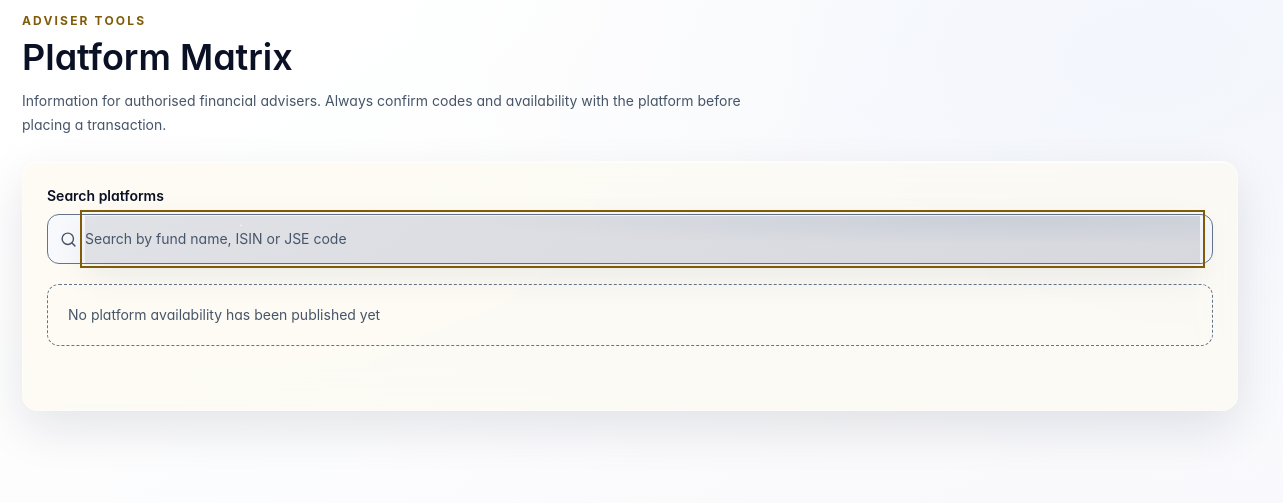
Scenario: AdviserPlatformsPage › shows the exact empty state, disclaimer, recognized query, and search placeholder
The width and height of the screenshot is (1283, 503).
Expected: the text "No platform availability has been published yet" is shown, [47,284,1213,346]
Expected: the text "Information for authorised financial advisers. Always confirm codes and availability with the platform before placing a " is shown, [22,92,741,133]
Type "ZA1234567890" into the field named "Search by fund name, ISIN or JSE code".
click(642, 239); type("ZA1234567890")  # box [85,215,1200,263]
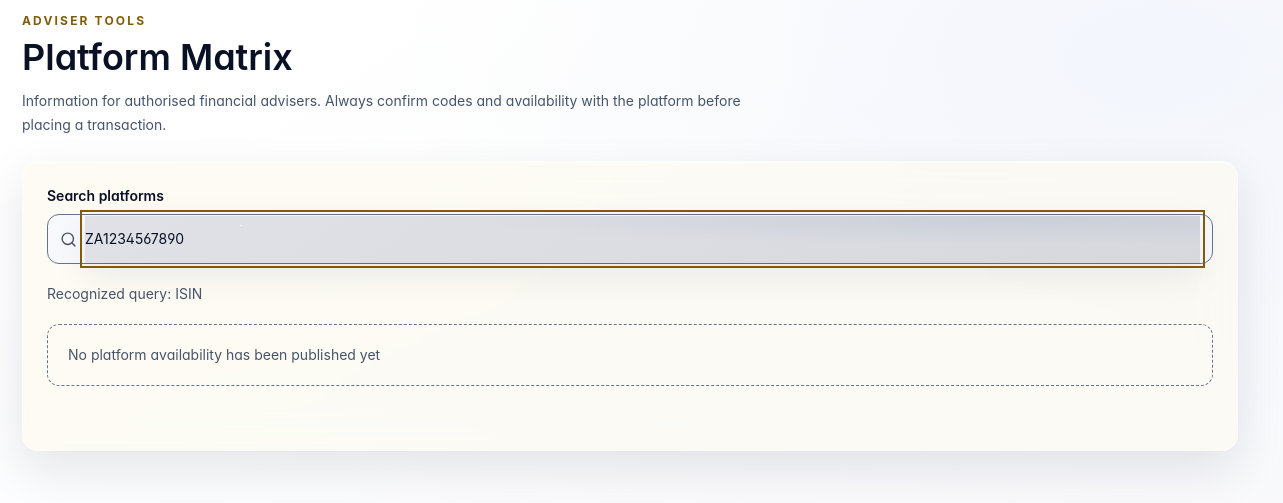
Result: the text "Recognized query: ISIN" is shown at [47,285,202,302]
